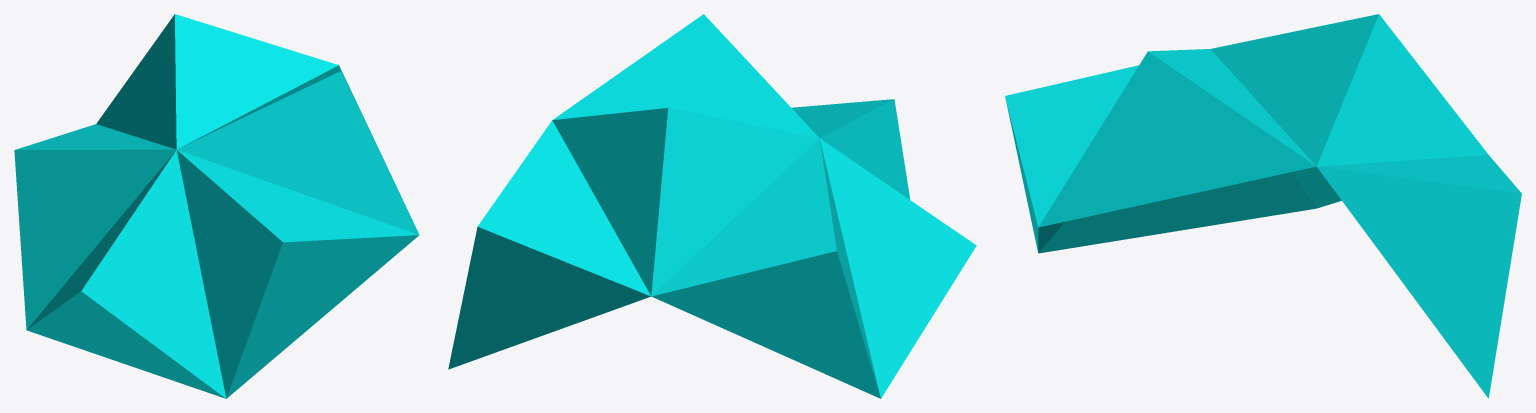
The picture shows the model from 3 angles, left to right: view 1: azimuth 30°, elevation 25°; view 2: azimuth 150°, elevation 25°; view 3: azimuth 270°, elevation 25°; orthographic projection. The views are drawn at different scales.
Parts seen in each view (by area): view 1: Object_25; view 2: Object_25; view 3: Object_25.
Part boxes in pixels (x1,y1,x2,y2): Object_25: (14,14,419,398); Object_25: (448,14,976,398); Object_25: (1005,14,1521,398).
Bounding box in the file's own units: 5.3 × 3.62 × 5.77.
